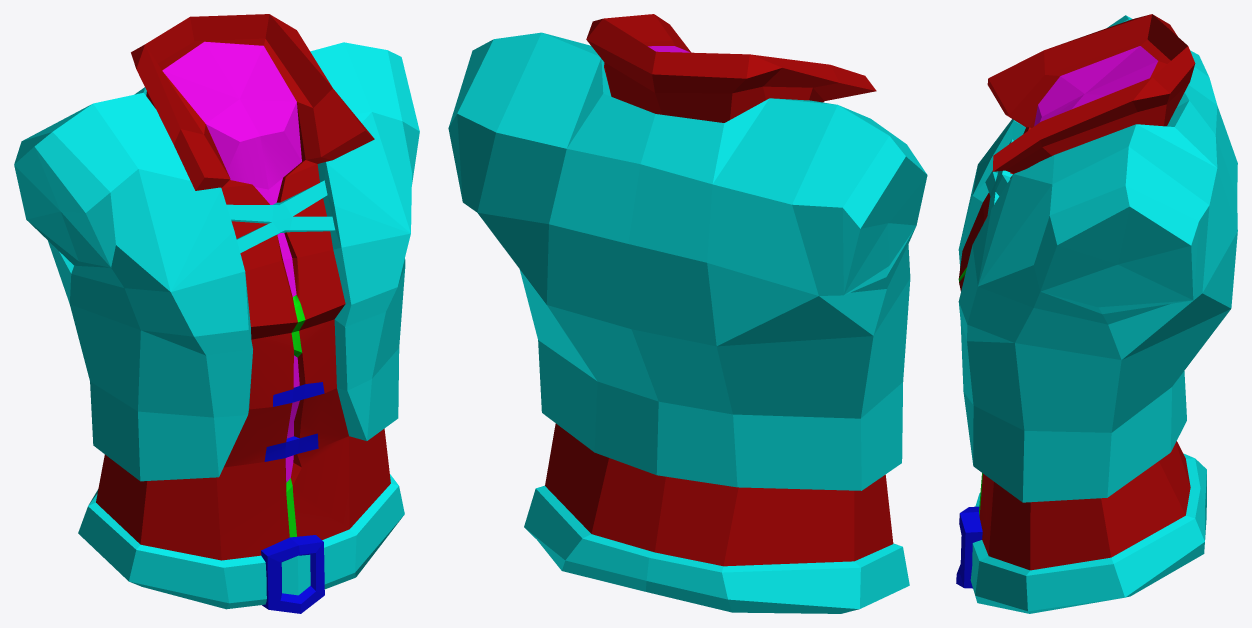
The model's file is Chr_Torso_Male_Static_28.fbx.
3 renders of one model, left to right at view 1: azimuth 30°, elevation 25°; view 2: azimuth 150°, elevation 25°; view 3: azimuth 270°, elevation 25°, orthographic. The views are drawn at different scales.
Parts seen in each view (by area): view 1: Chr_Torso_Male_28; view 2: Chr_Torso_Male_28; view 3: Chr_Torso_Male_28.
Part boxes in pixels (<box>): Chr_Torso_Male_28: <box>14,14,419,613</box>; Chr_Torso_Male_28: <box>448,14,927,613</box>; Chr_Torso_Male_28: <box>956,14,1237,613</box>.
Bounding box in the file's own units: 50.2 × 67.48 × 31.98.
